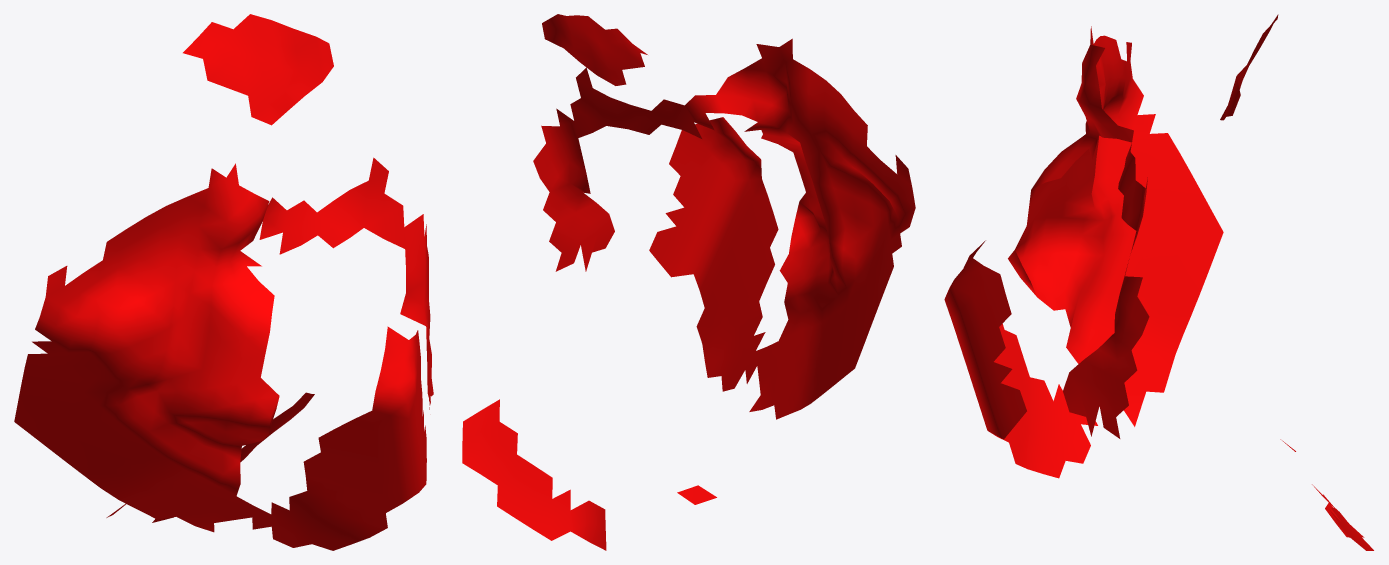
File: SM_GPUI_RockAA_70.fbx
3 renders of one model, left to right at view 1: azimuth 30°, elevation 25°; view 2: azimuth 150°, elevation 25°; view 3: azimuth 270°, elevation 25°, orthographic. The views are drawn at different scales.
Parts seen in each view (by area): view 1: SM_GPUI_RockAA_70; view 2: SM_GPUI_RockAA_70; view 3: SM_GPUI_RockAA_70.
Part boxes in pixels (x1,y1,x2,y2): SM_GPUI_RockAA_70: (14,14,433,550); SM_GPUI_RockAA_70: (462,14,915,550); SM_GPUI_RockAA_70: (944,14,1373,550).
Size of the model in its own units: 813 by 1024 by 753.
